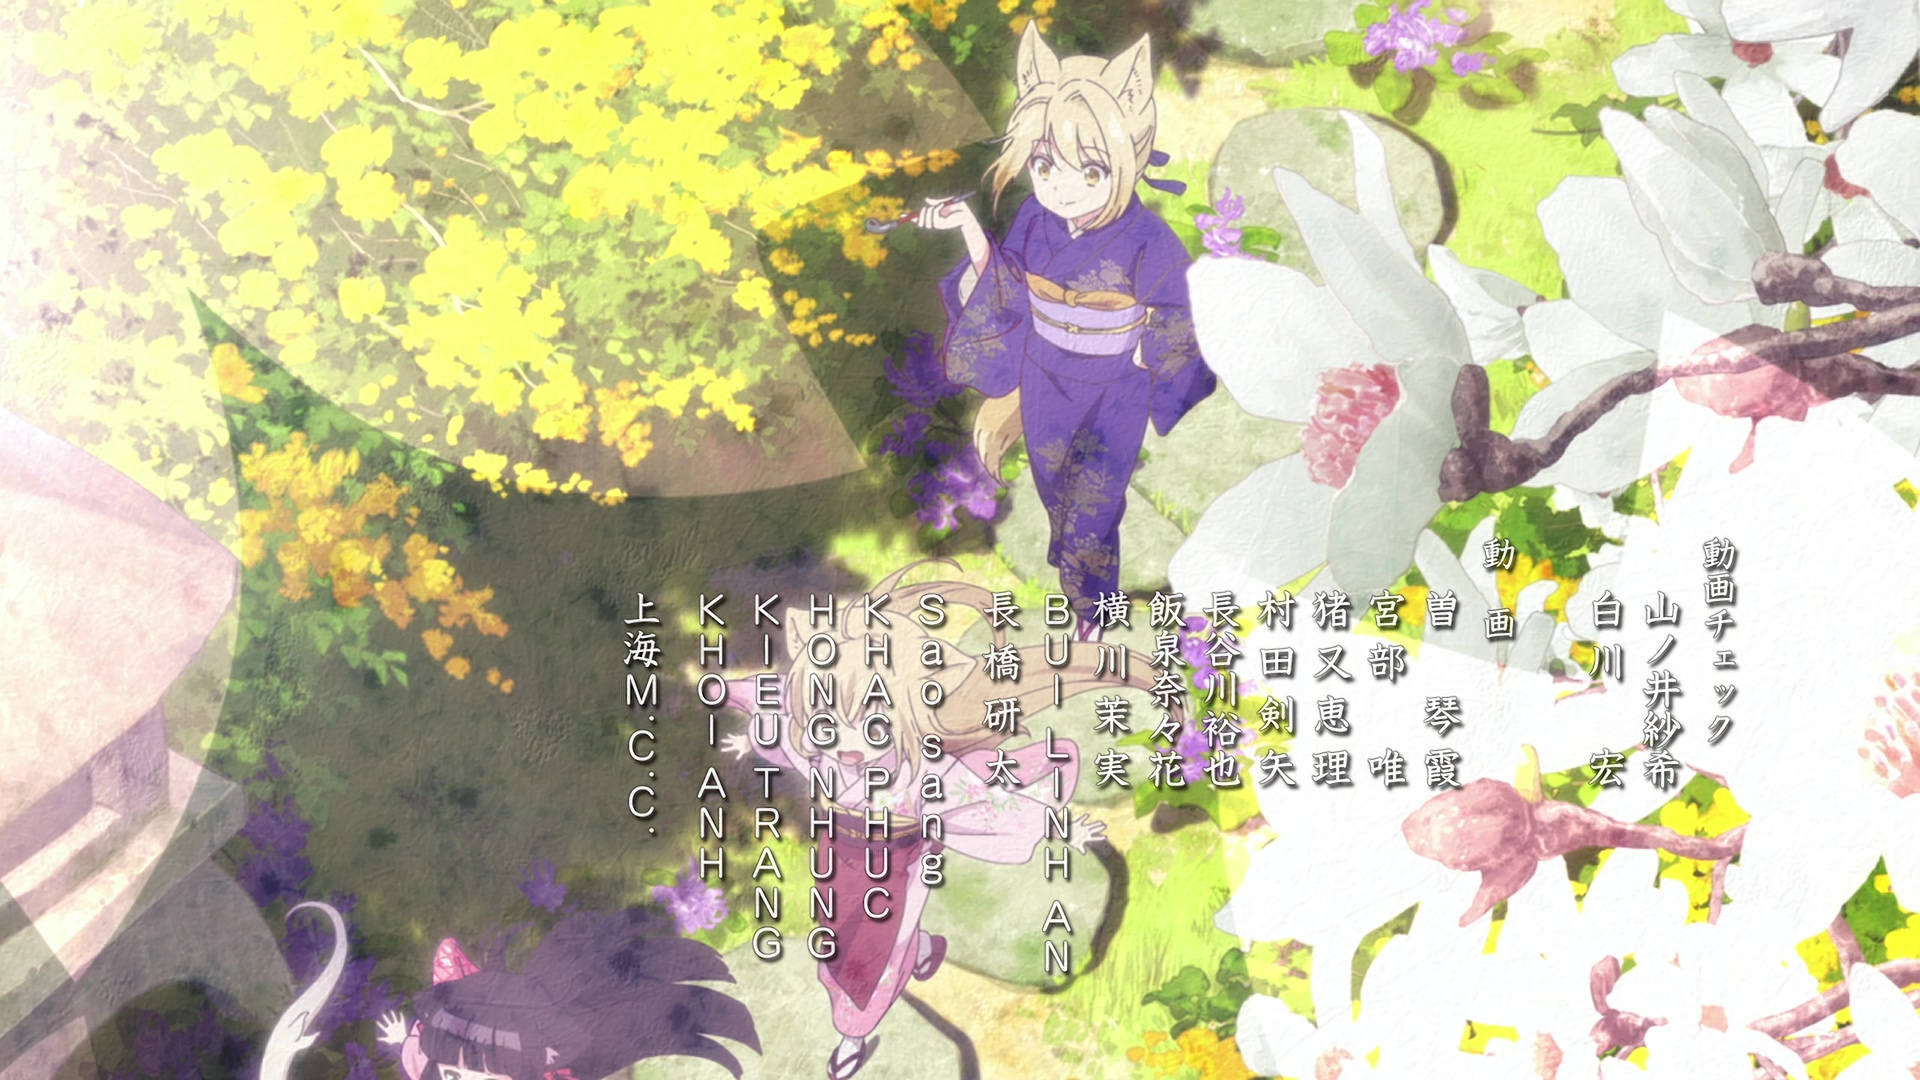柚: (711, 558, 1185, 1080)
桐: (858, 20, 1212, 640)
樱: (371, 911, 760, 1080)
